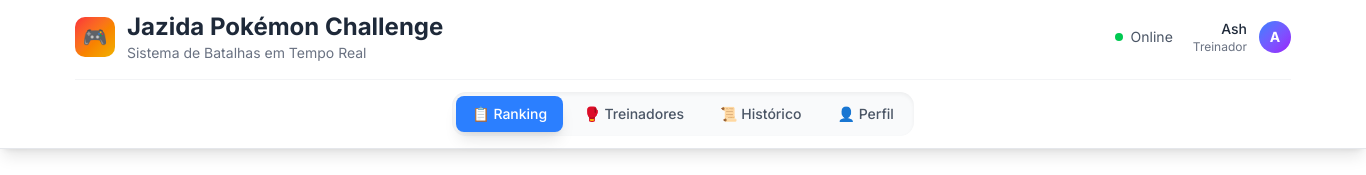
Test: Header › should show user dropdown when avatar button is clicked
Note: Encontrar o botão do avatar (primeira letra do nome)
Step 1. Click the button "A" → (1275,37), box [1259,21,1291,53]
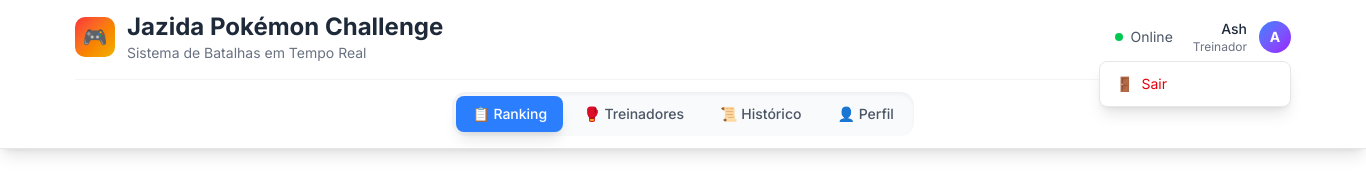
Now the button "🚪 Sair" is shown, box [1100,66,1290,102]
